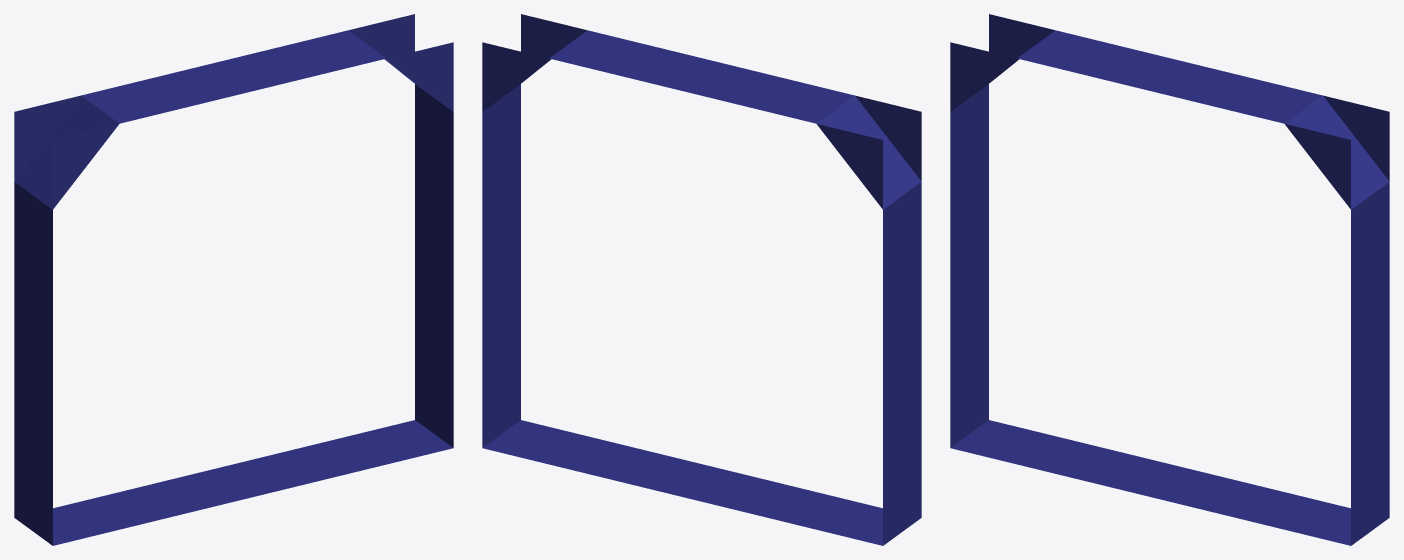
Rendered from Wall_A_4x4m_Door_Ex.FBX.
3 renders of one model, left to right at view 1: azimuth 30°, elevation 25°; view 2: azimuth 150°, elevation 25°; view 3: azimuth 330°, elevation 25°, orthographic.
Visible parts, largest first — view 1: Wall_A_4x4m_Door_Ex; view 2: Wall_A_4x4m_Door_Ex; view 3: Wall_A_4x4m_Door_Ex.
Boxes of the visible parts, x1,y1,x2,y2 form: Wall_A_4x4m_Door_Ex: (14, 14, 453, 545); Wall_A_4x4m_Door_Ex: (482, 14, 921, 545); Wall_A_4x4m_Door_Ex: (950, 14, 1389, 545).
Bounding box in the file's own units: 300 × 290 × 50.
